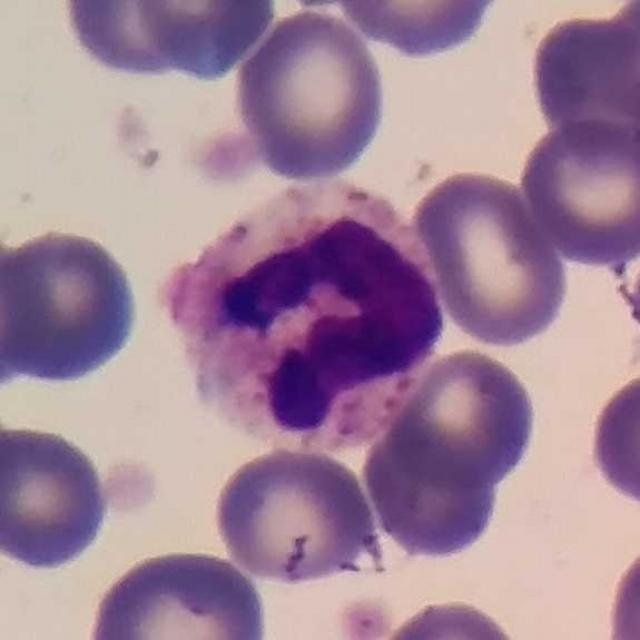Neutrophil: (145, 173, 455, 464)
RBC: (408, 164, 574, 350), (356, 384, 516, 570), (230, 5, 391, 184), (373, 345, 543, 505), (207, 443, 387, 590), (0, 220, 148, 398), (80, 540, 275, 639), (514, 114, 640, 267), (61, 0, 283, 86), (0, 416, 115, 577), (523, 10, 639, 155), (330, 0, 513, 66), (584, 364, 640, 518), (0, 217, 46, 396), (370, 594, 528, 640), (587, 1, 640, 122), (600, 534, 640, 640)
